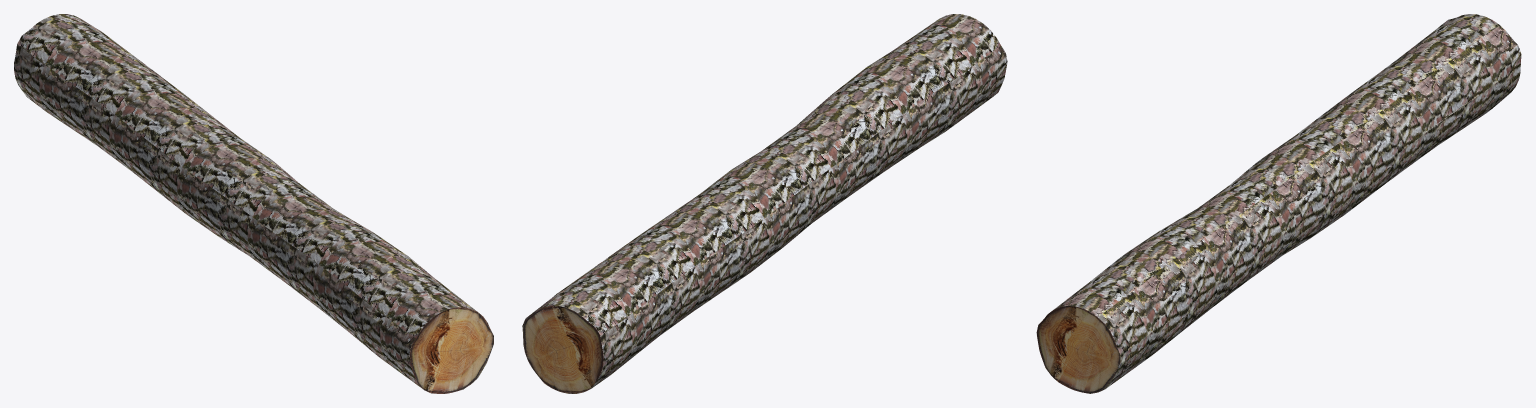
File: tronchi4.fbx
3 renders of one model, left to right at view 1: azimuth 30°, elevation 25°; view 2: azimuth 150°, elevation 25°; view 3: azimuth 330°, elevation 25°, orthographic.
Visible parts, largest first — view 1: tronco, taglio; view 2: tronco, taglio; view 3: tronco, taglio.
Boxes of the visible parts, x1,y1,x2,y2 form: tronco: (14, 14, 493, 393); taglio: (15, 28, 493, 393); tronco: (522, 14, 1007, 393); taglio: (522, 306, 603, 393); tronco: (1036, 14, 1521, 393); taglio: (1037, 18, 1520, 393).
Bounding box in the file's own units: 1.07 × 1.06 × 8.55.
